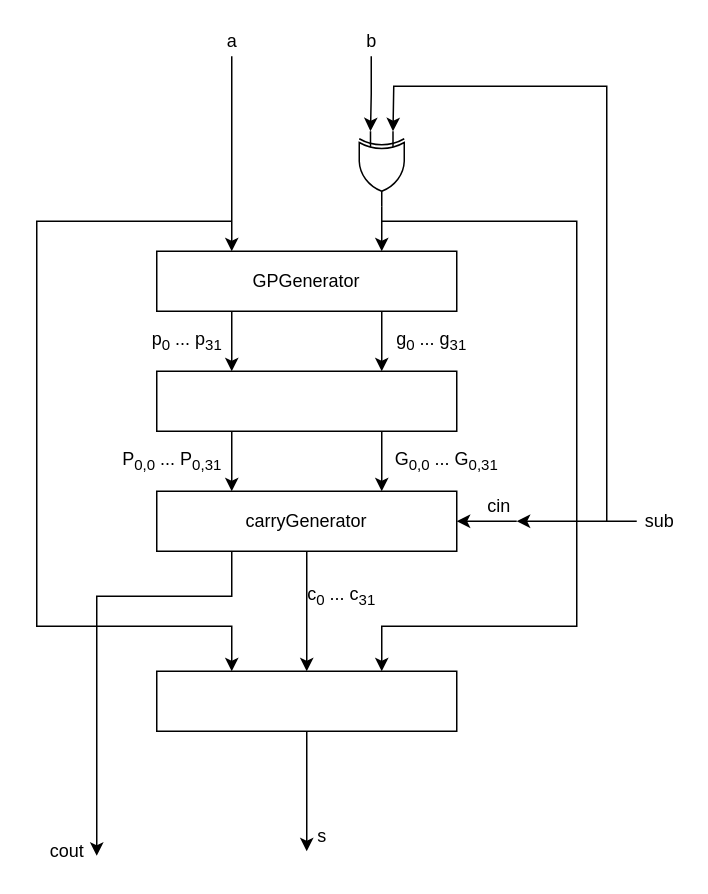
The diagram is 708 pixels wide and 894 high, and some of its shapes have lost their labels. Each missing label, with the centre of its shape:
blockGPGenerator: point 306,400
fullAdders: point 306,700
